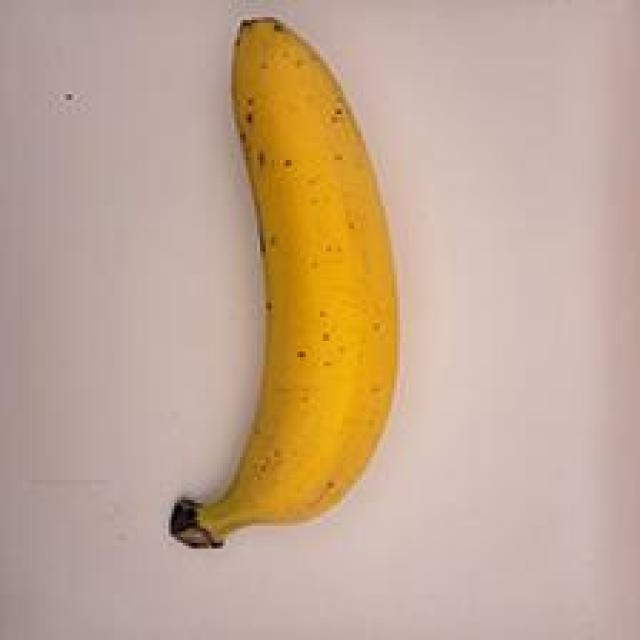ripe: (162, 4, 413, 559)
